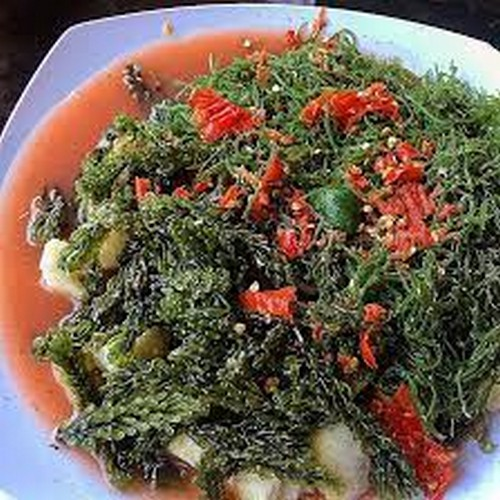bulung buni: (74, 34, 468, 475)
